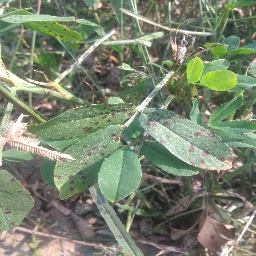GroundNut_Leaf: (151, 103, 234, 175), (27, 100, 135, 142), (2, 7, 84, 47), (96, 149, 143, 205), (1, 169, 36, 233), (202, 68, 241, 92), (184, 53, 201, 89)
